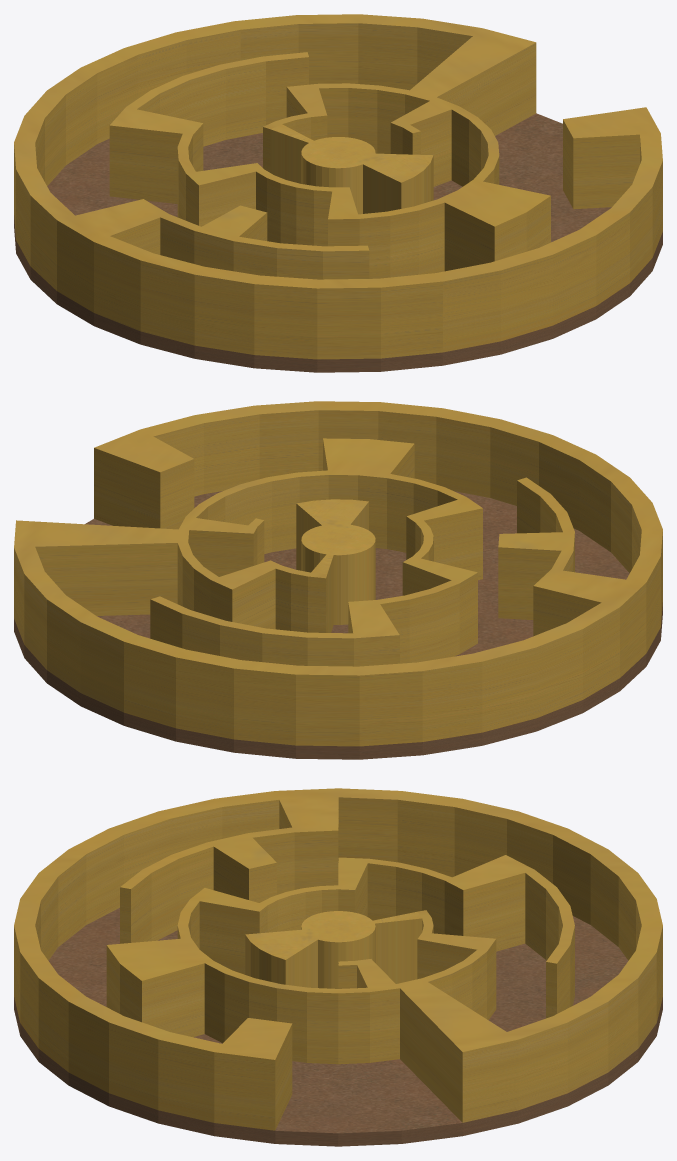
File: MediumLockPickMaze.fbx
3 views of the same model, one above another, from view 1: azimuth 30°, elevation 25°; view 2: azimuth 150°, elevation 25°; view 3: azimuth 270°, elevation 25° (orthographic).
Visible parts, largest first — view 1: Maze; view 2: Maze; view 3: Maze.
Boxes of the visible parts, <box> form: Maze: <box>14,14,662,372</box>; Maze: <box>14,401,662,759</box>; Maze: <box>14,788,662,1146</box>.
Bounding box in the file's own units: 32770 × 4682 × 32770.
